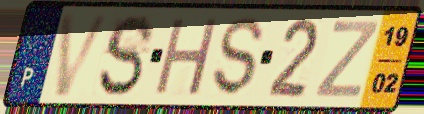2: (266, 15, 321, 101)
H: (151, 15, 222, 98)
S: (95, 13, 157, 100), (211, 16, 266, 99)
V: (52, 11, 115, 100)
Z: (311, 18, 382, 100)
